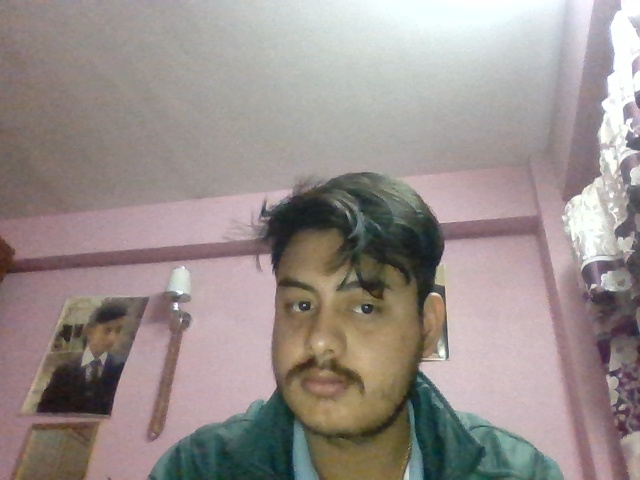no mask: (266, 329, 442, 438)
